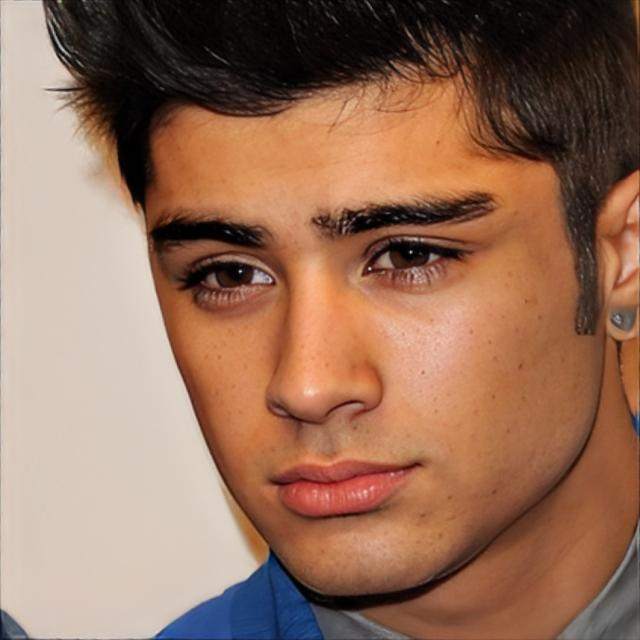happy: (143, 54, 588, 602)
